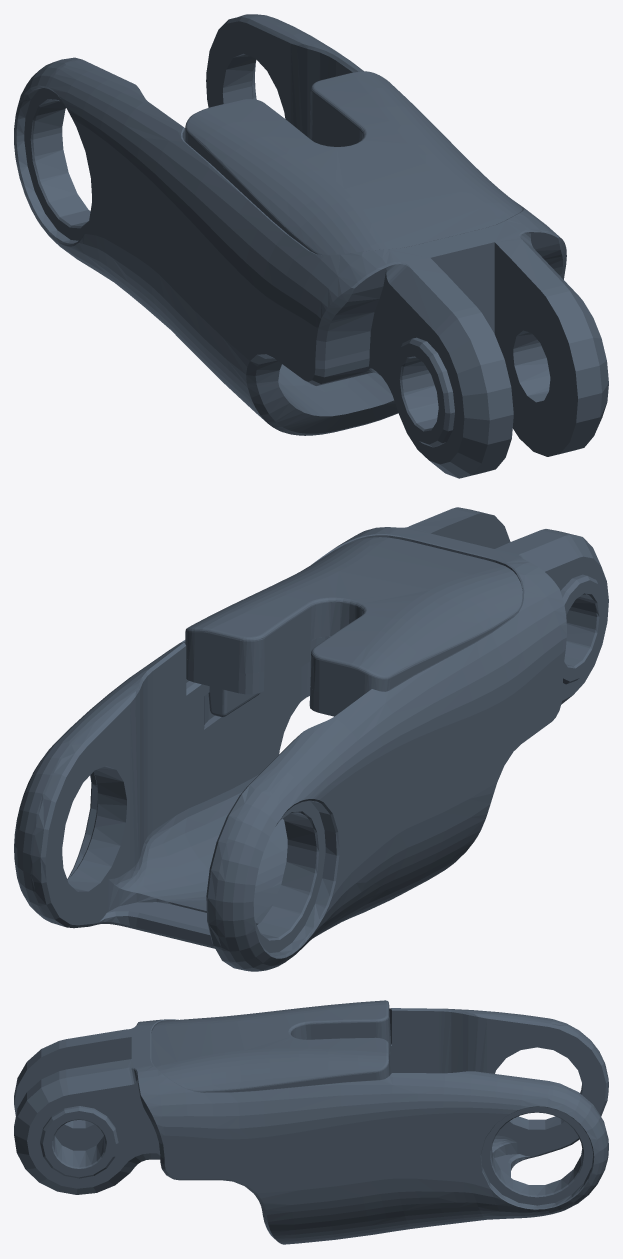
File: L_index_prox.dae
3 views of the same model, one above another, from view 1: azimuth 30°, elevation 25°; view 2: azimuth 150°, elevation 25°; view 3: azimuth 270°, elevation 25° (orthographic). The views are drawn at different scales.
Parts seen in each view (by area): view 1: L_index_prox; view 2: L_index_prox; view 3: L_index_prox.
Boxes of the visible parts, <box> form: L_index_prox: <box>14,14,608,478</box>; L_index_prox: <box>14,507,608,971</box>; L_index_prox: <box>14,1000,608,1244</box>.
Bounding box in the file's own units: 0.0154 × 0.0455 × 0.0171.
